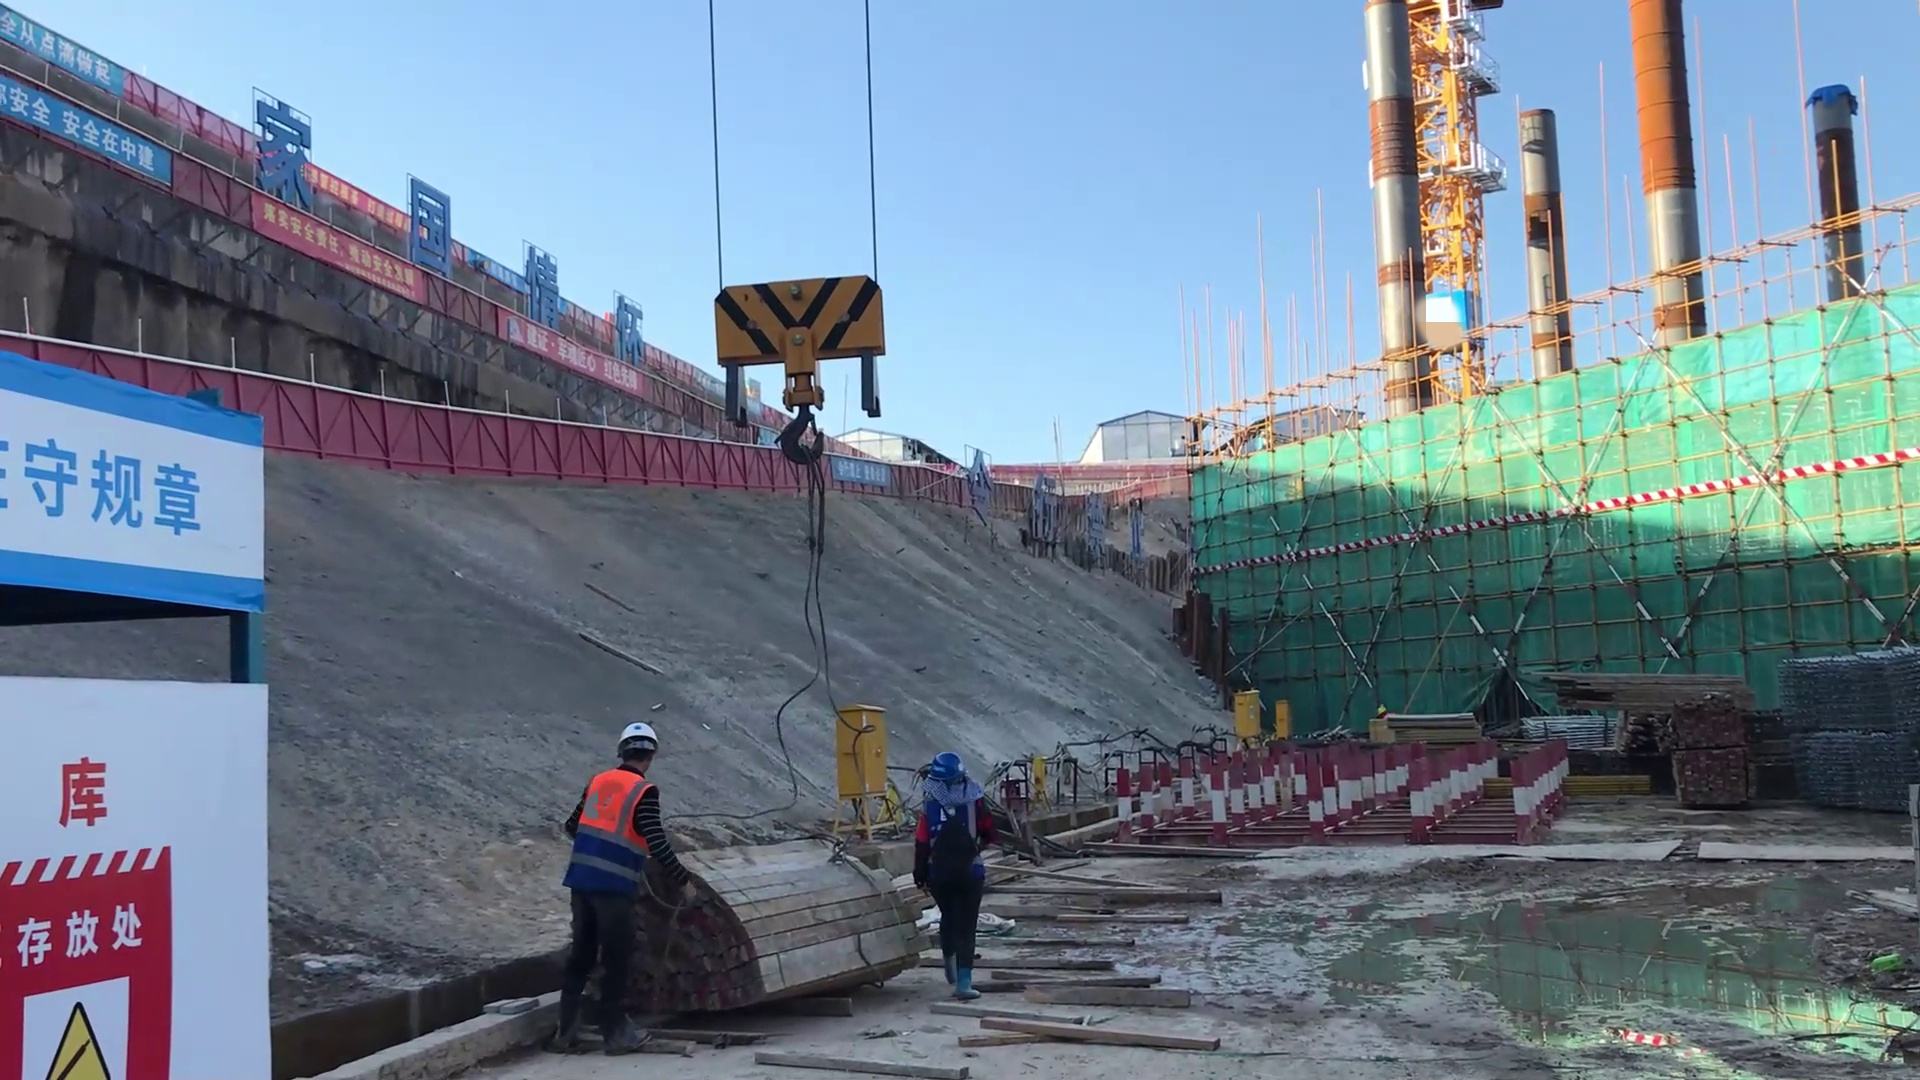ebox: (838, 700, 886, 798), (1232, 681, 1264, 740), (1271, 697, 1294, 736)
fence: (258, 363, 589, 481), (589, 426, 799, 481)
helmet: (613, 723, 673, 781), (924, 749, 974, 795), (1375, 705, 1386, 714)
hook: (710, 265, 881, 412)
person: (552, 712, 689, 1057), (897, 746, 997, 1006)
scaffold: (1769, 638, 1920, 825)
slogan: (1, 408, 232, 615), (6, 864, 199, 1080), (1, 84, 228, 227), (251, 193, 430, 308), (6, 1, 136, 115)
vest: (575, 766, 659, 860)
wood: (1015, 863, 1219, 1078), (685, 838, 884, 1016), (1525, 665, 1747, 738)
